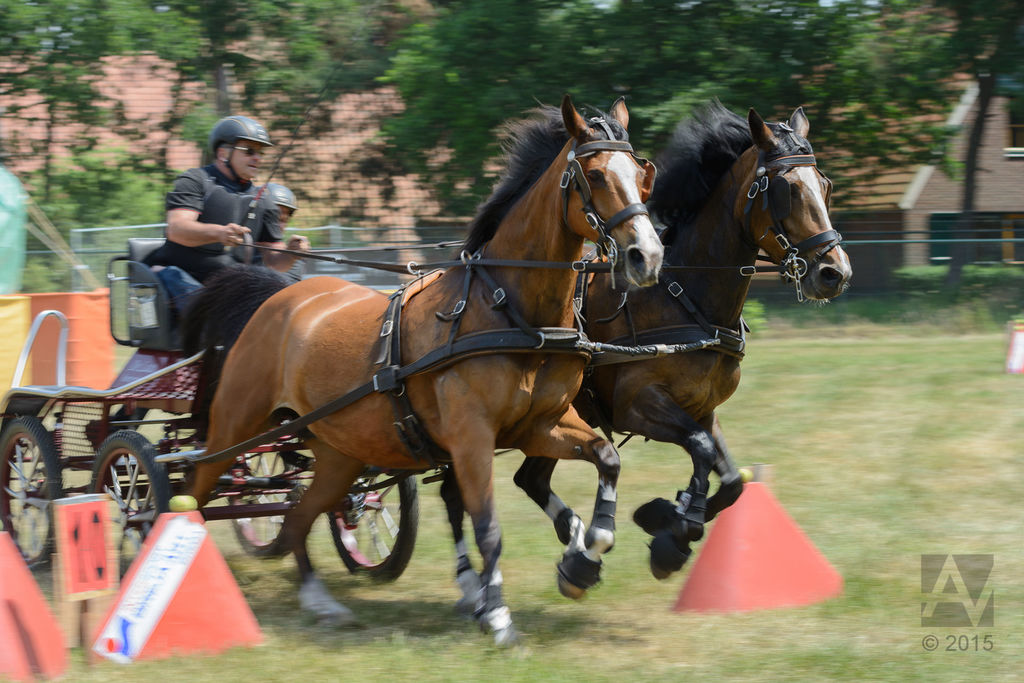Tree: (0, 0, 1024, 295)
